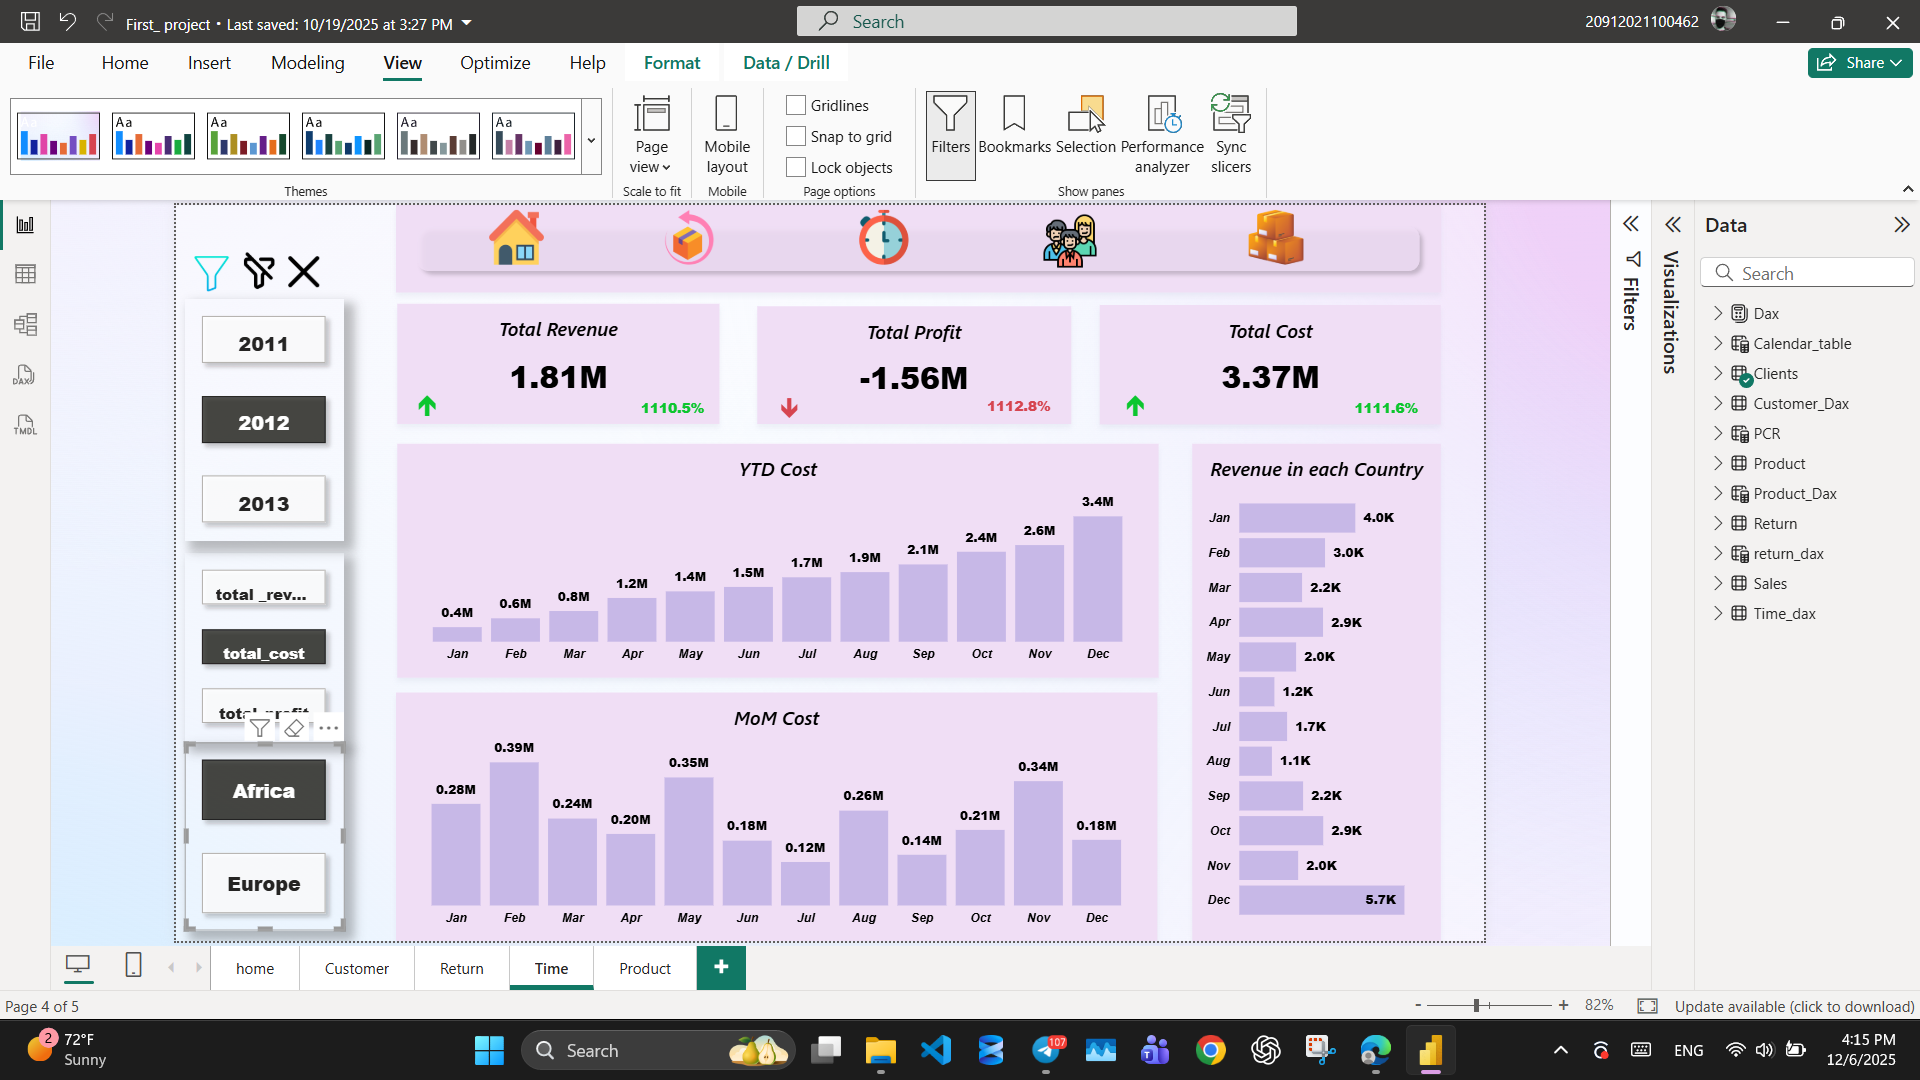

What the dashboard file says about the page in this screenshot:
{"tool":"powerbi","page":{"name":"Time","canvas":[1280,720],"ordinal":3},"visuals":[{"type":"advancedSlicerVisual","fields":{"Values":["Calendar_table.year"]},"box":[8.6,92.1,155.9,236.9],"z":0},{"type":"advancedSlicerVisual","fields":{"Values":["Clients.Continent"]},"box":[8.6,525.4,155.9,184.1],"z":1000},{"type":"shape","box":[215.2,0,1022.3,85.6],"z":2000},{"type":"image","box":[95.4,45.2,58.7,40.4],"z":3000},{"type":"image","box":[50.1,41.6,62.4,50.1],"z":4000},{"type":"image","box":[0,45.2,69.7,44],"z":5000},{"type":"image","box":[275.6,0,116.7,63.3],"z":6000},{"type":"image","box":[802.2,3.7,145.5,63.6],"z":7000},{"type":"image","box":[624.4,0,135.3,63.3],"z":8000},{"type":"image","box":[440.2,0,124.7,63.6],"z":9000},{"type":"image","box":[1015.4,0,122.9,63.3],"z":10000},{"type":"card","title":"Total Revenue","fields":{"Values":["Dax.total _revenue"]},"box":[216,97,315.5,117.8],"z":11000},{"type":"card","title":"Total Revenue","fields":{"Values":["Dax.Show_Variance_revenue"]},"box":[440.7,175.5,90.8,50.3],"z":12000},{"type":"card","title":"Total Revenue","fields":{"Values":["Dax.Arrow_revenue"]},"box":[214,165.1,63.6,63.6],"z":13000},{"type":"card","title":"Total Profit","fields":{"Values":["Dax.total_profit"]},"box":[568.3,99.4,306.9,115.4],"z":14000},{"type":"card","title":"Total Revenue","fields":{"Values":["Dax.Show_Variance_profit"]},"box":[779.4,173.1,90.8,50.3],"z":15000},{"type":"card","title":"Total Revenue","fields":{"Values":["Dax.Arrow_profit"]},"box":[568.3,166.9,62.6,63.8],"z":16000},{"type":"card","title":"Total Cost","fields":{"Values":["Dax.total_cost"]},"box":[903.4,98.2,333.9,116.6],"z":17000},{"type":"card","title":"Total Revenue","fields":{"Values":["Dax.Show_Variance_cost"]},"box":[1137.9,175.5,90.8,50.3],"z":18000},{"type":"card","title":"Total Revenue","fields":{"Values":["Dax.Arrow_cost"]},"box":[903.4,171.8,70,50.3],"z":19000},{"type":"clusteredColumnChart","fields":{"Y":["Time_dax.YTD"],"Category":["Calendar_table.month_name"]},"box":[216.4,233.6,744.7,228.7],"z":20000},{"type":"clusteredBarChart","title":"Revenue in each Country","fields":{"Category":["Calendar_table.month_name"],"Y":["Dax.total_qty"]},"box":[994.2,233.6,243.3,486.7],"z":21000},{"type":"advancedSlicerVisual","fields":{"Values":["PCR.PCR"]},"box":[8.6,340,155.9,185.3],"z":22000},{"type":"clusteredColumnChart","fields":{"Category":["Calendar_table.month_name"],"Y":["Time_dax.Month over Month"]},"box":[215.2,476.9,744.7,243.3],"z":23000}]}

Visuals, with their boxes on the page's 1280x720 design canvas (x1, y1, x2, y2). These are canvas units, not pixel positions in the 1920x1080 screenshot, which may show the page scaled, cropped or inside an application window:
advancedSlicerVisual - Calendar_table.year: crop(9, 92, 164, 329)
advancedSlicerVisual - Clients.Continent: crop(9, 525, 164, 710)
shape: crop(215, 0, 1238, 86)
image: crop(95, 45, 154, 86)
image: crop(50, 42, 112, 92)
image: crop(0, 45, 70, 89)
image: crop(276, 0, 392, 63)
image: crop(802, 4, 948, 67)
image: crop(624, 0, 760, 63)
image: crop(440, 0, 565, 64)
image: crop(1015, 0, 1138, 63)
"Total Revenue" card: crop(216, 97, 532, 215)
"Total Revenue" card: crop(441, 176, 532, 226)
"Total Revenue" card: crop(214, 165, 278, 229)
"Total Profit" card: crop(568, 99, 875, 215)
"Total Revenue" card: crop(779, 173, 870, 223)
"Total Revenue" card: crop(568, 167, 631, 231)
"Total Cost" card: crop(903, 98, 1237, 215)
"Total Revenue" card: crop(1138, 176, 1229, 226)
"Total Revenue" card: crop(903, 172, 973, 222)
clusteredColumnChart - Time_dax.YTD x Calendar_table.month_name: crop(216, 234, 961, 462)
"Revenue in each Country" clusteredBarChart: crop(994, 234, 1238, 720)
advancedSlicerVisual - PCR.PCR: crop(9, 340, 164, 525)
clusteredColumnChart - Calendar_table.month_name x Time_dax.Month over Month: crop(215, 477, 960, 720)
